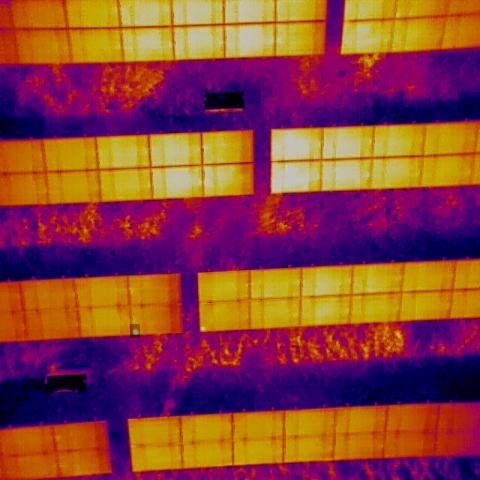fault: (130, 324, 140, 338), (198, 324, 208, 334)
